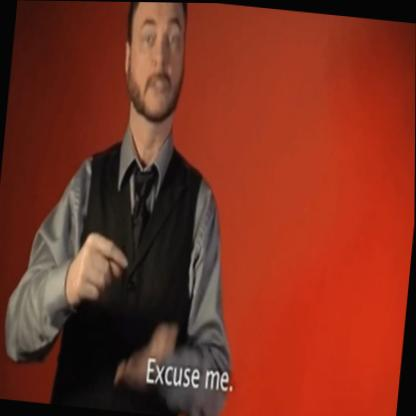ExcuseMe: (0, 0, 268, 416)
